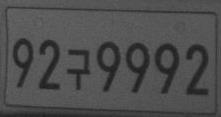2: (184, 42, 209, 96), (37, 38, 60, 89)
9: (95, 40, 121, 92), (154, 42, 180, 93), (125, 41, 150, 94), (11, 36, 34, 87)
구: (66, 47, 90, 90)
